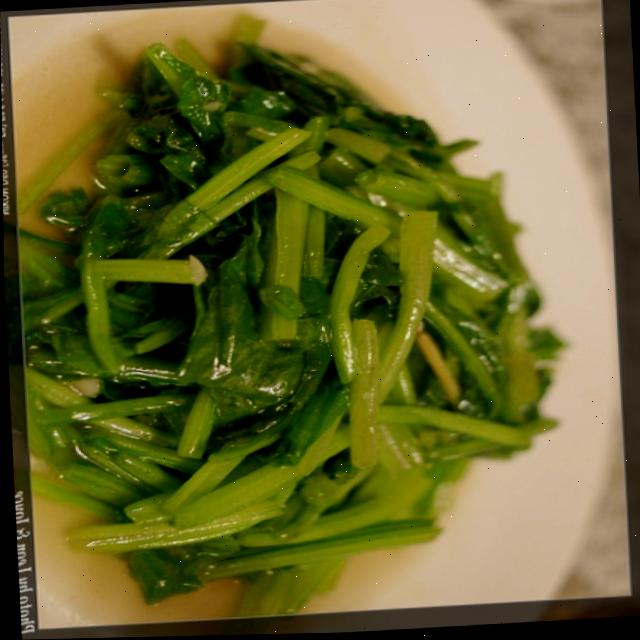蔬菜料理: (0, 12, 637, 632)
